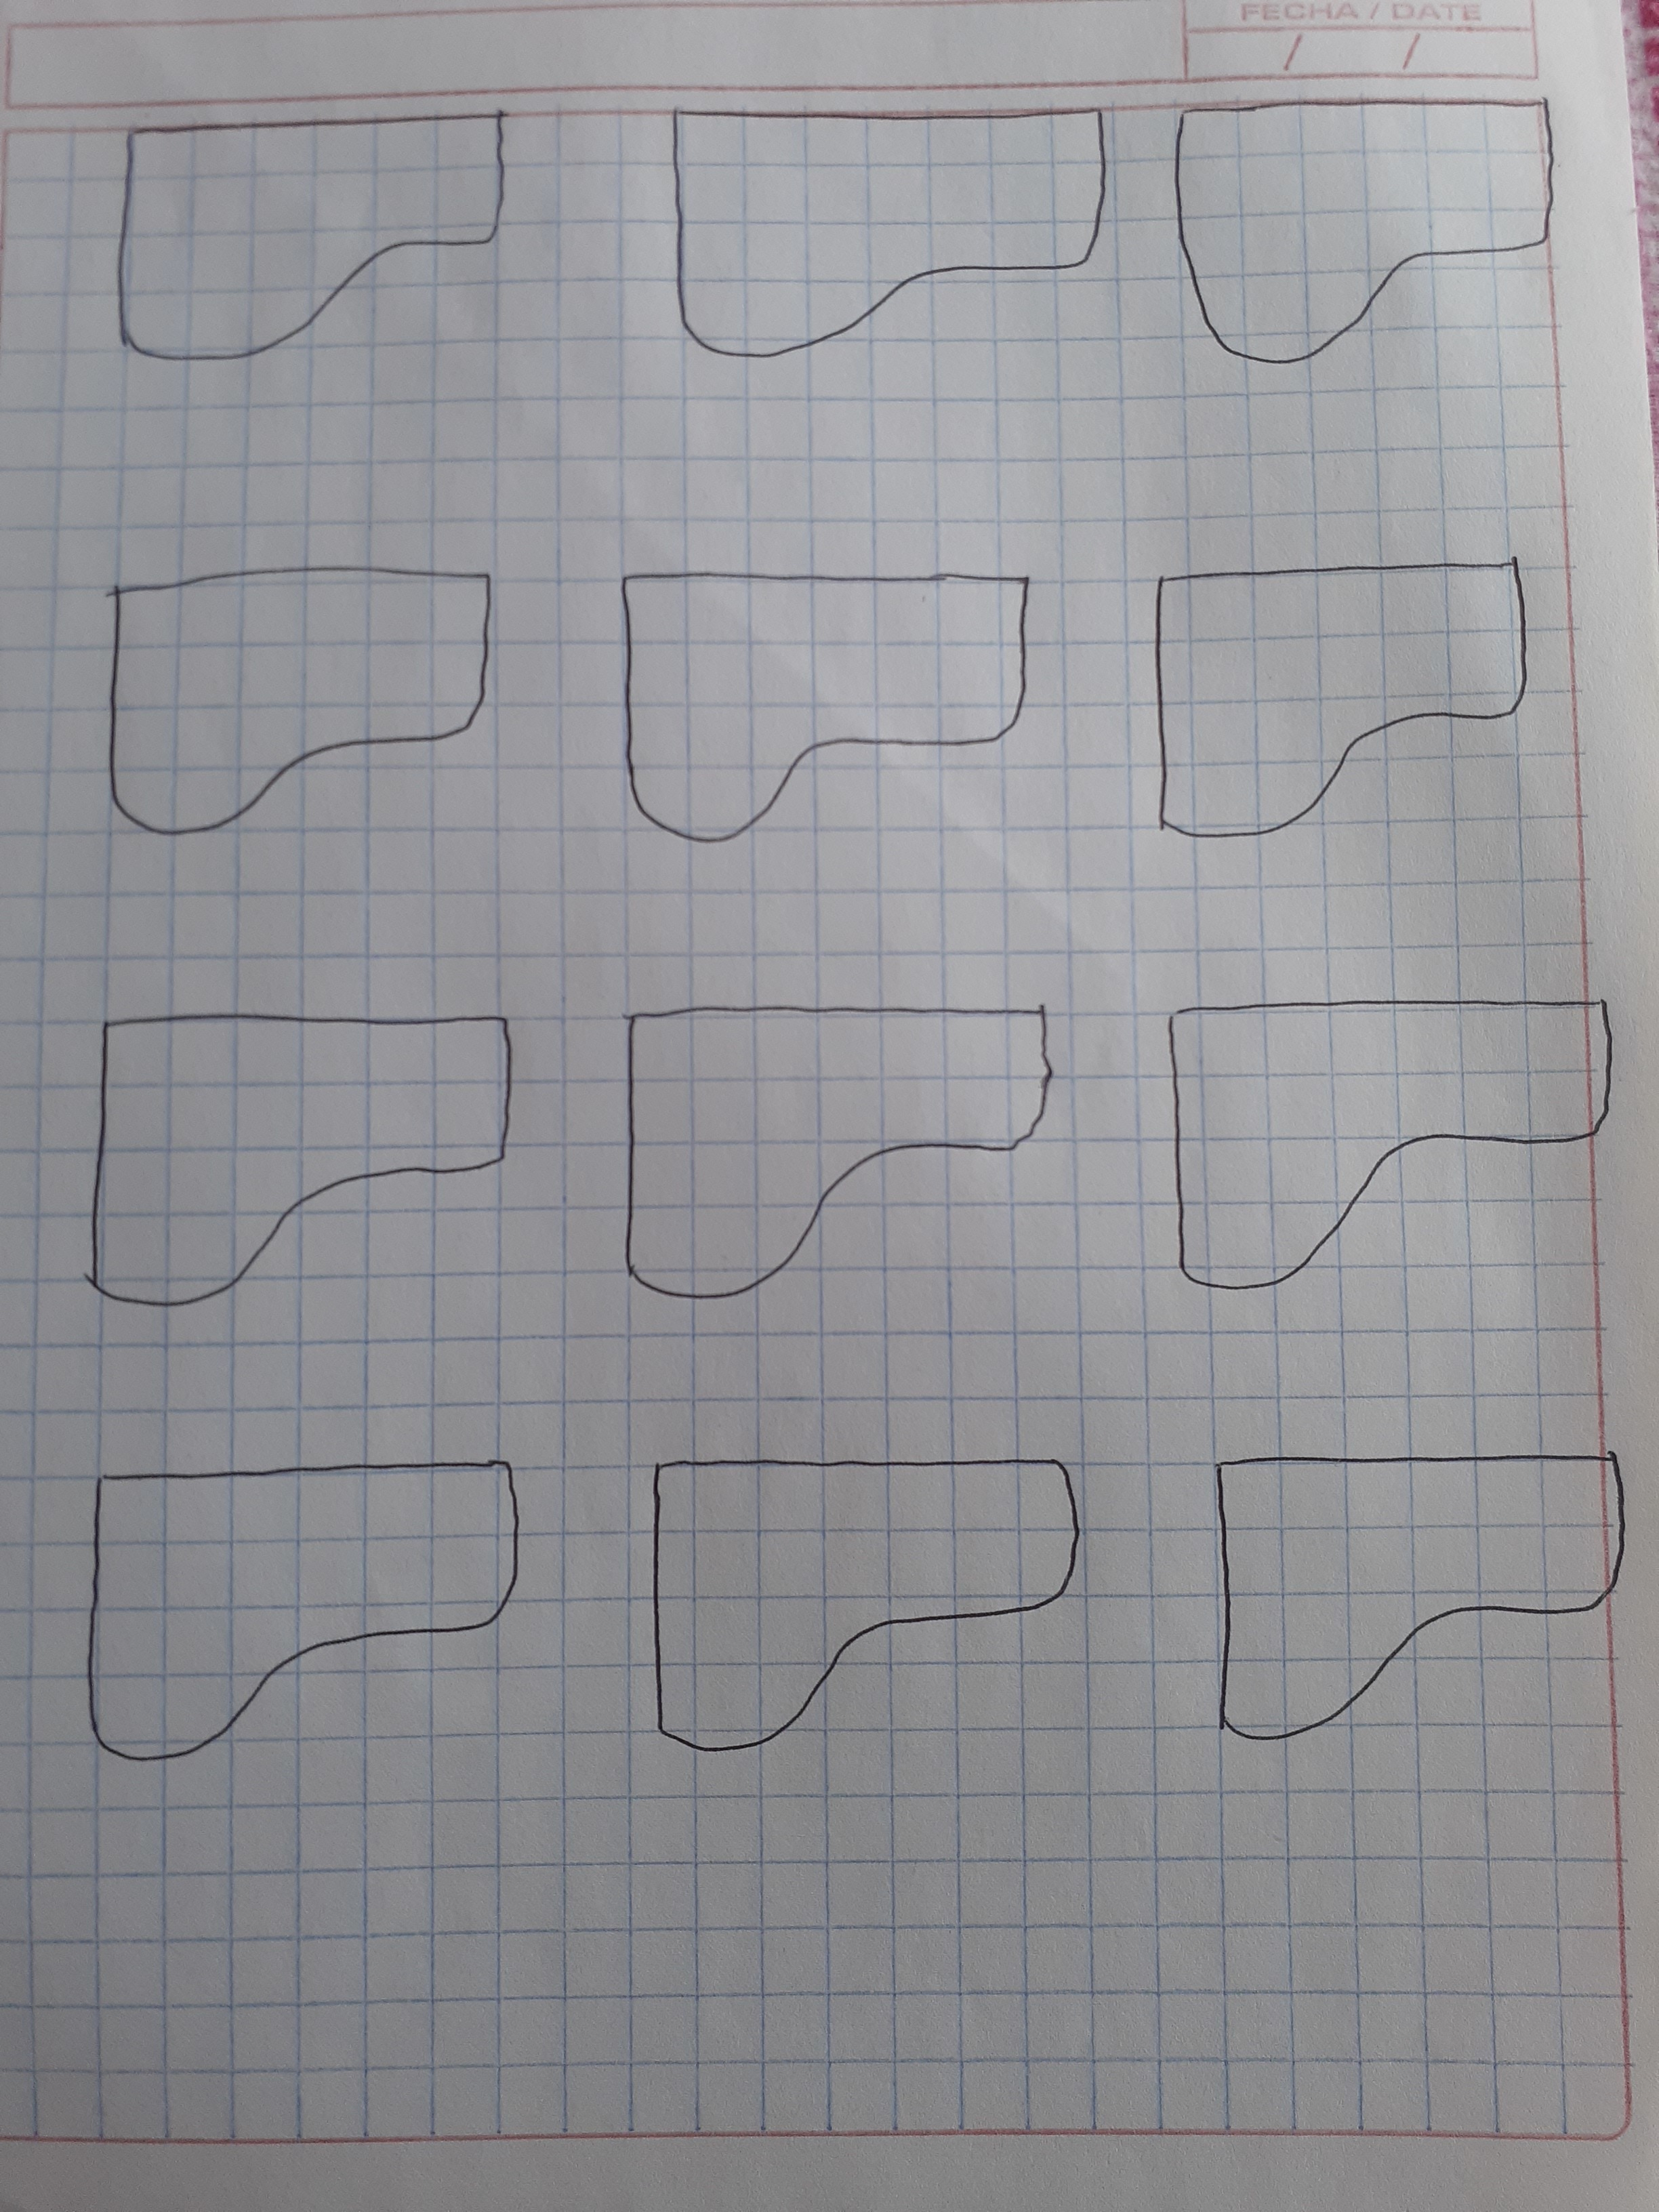print: (56, 974, 526, 1336), (613, 974, 1075, 1336), (1150, 977, 1631, 1313), (71, 1447, 549, 1780), (580, 523, 1051, 859), (620, 1439, 1089, 1773), (1194, 1418, 1635, 1770), (655, 73, 1122, 394), (71, 543, 519, 869), (1136, 519, 1553, 845), (1166, 73, 1579, 378), (103, 96, 530, 374)
